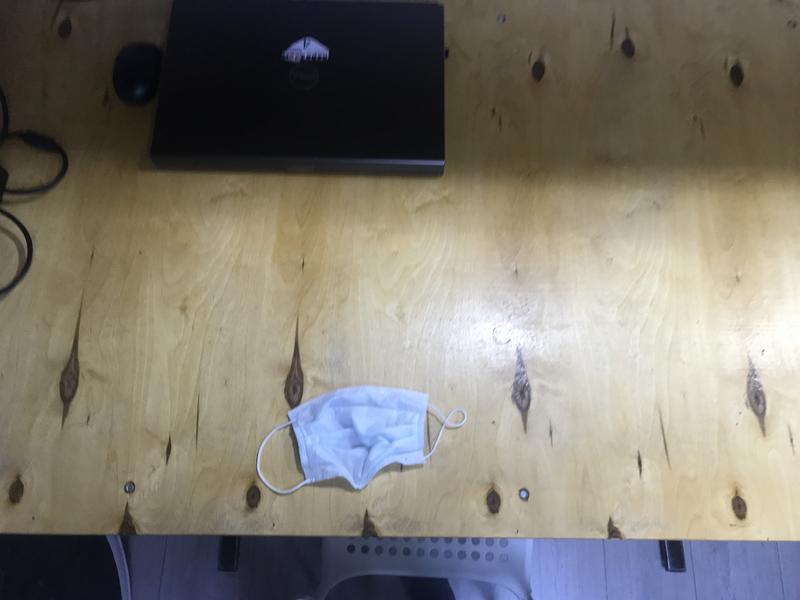medical_mask: (254, 385, 468, 493)
